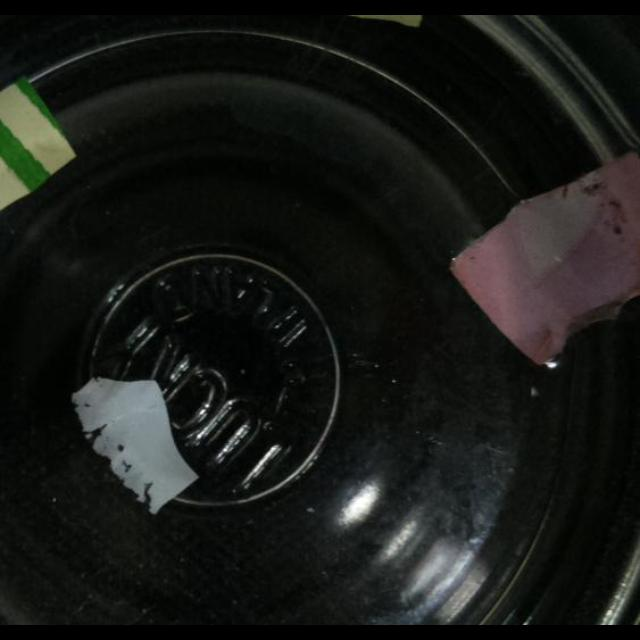Fragment: (440, 150, 640, 368), (71, 370, 203, 516), (1, 79, 77, 217), (332, 15, 432, 35)
